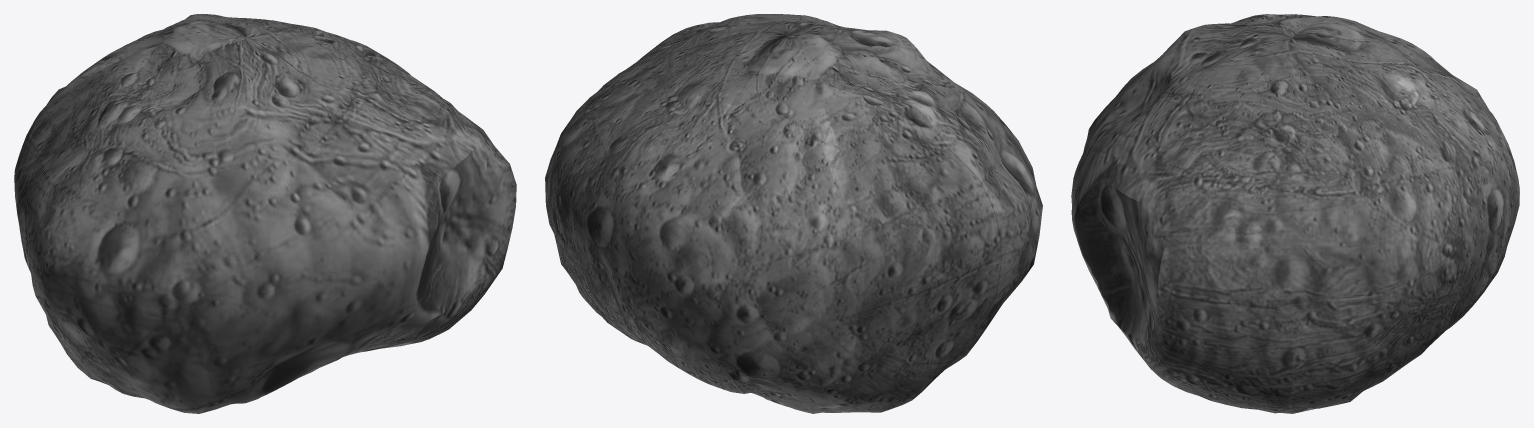
The model's file is phobos.obj.
3 views of the same model, side by side, from view 1: azimuth 30°, elevation 25°; view 2: azimuth 150°, elevation 25°; view 3: azimuth 270°, elevation 25° (orthographic).
Parts seen in each view (by area): view 1: Object; view 2: Object; view 3: Object.
Boxes of the visible parts, box(x1,y1,x2,y2) form: Object: box(14, 14, 516, 413); Object: box(545, 14, 1042, 413); Object: box(1071, 14, 1519, 413).
Bounding box in the file's own units: 25.99 × 19.34 × 23.36.
Materials: 1 (1 with a texture image).
